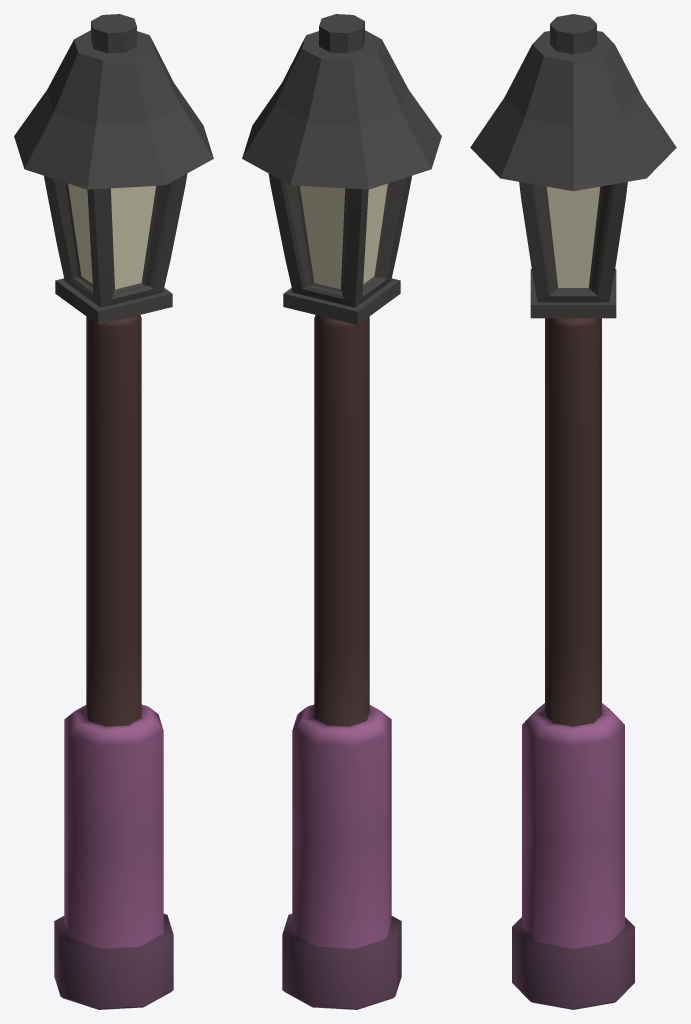
File: light1.fbx
The picture shows the model from 3 angles, left to right: view 1: azimuth 30°, elevation 25°; view 2: azimuth 150°, elevation 25°; view 3: azimuth 270°, elevation 25°; orthographic projection.
Parts seen in each view (by area): view 1: light1; view 2: light1; view 3: light1.
Boxes of the visible parts, x1,y1,x2,y2 form: light1: [14, 14, 213, 1009]; light1: [242, 14, 441, 1009]; light1: [470, 14, 676, 1009].
Size of the model in its own units: 0.5438 by 2.79 by 0.5438.
